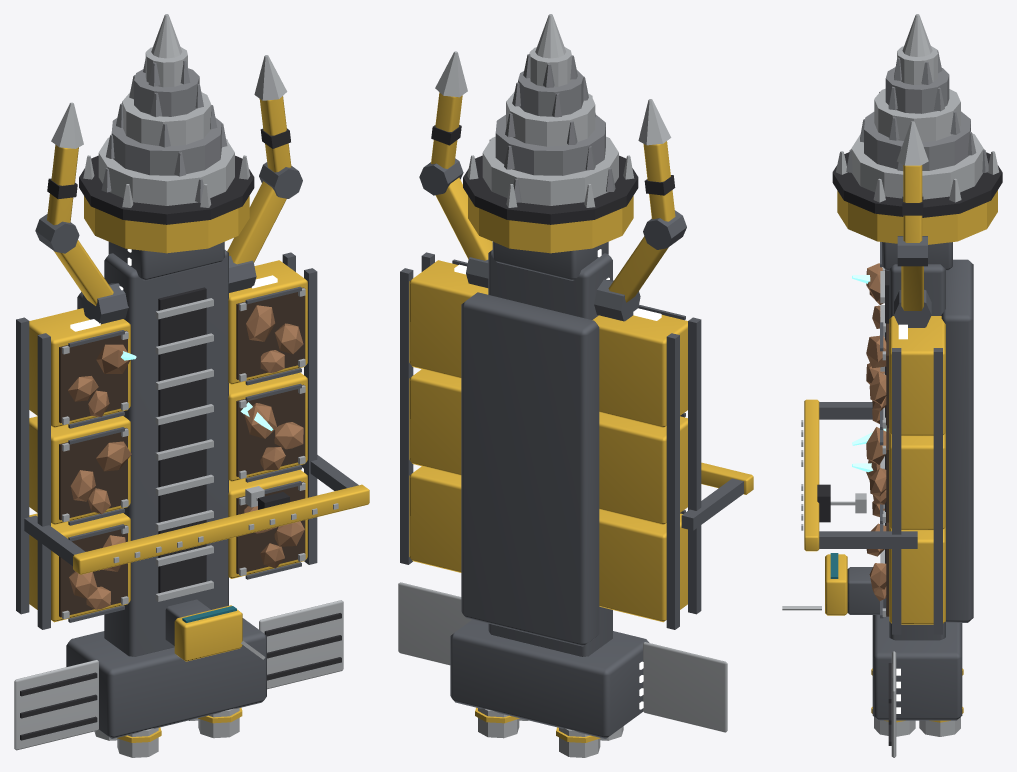
File: prospector.glb
3 views of the same model, side by side, from view 1: azimuth 30°, elevation 25°; view 2: azimuth 150°, elevation 25°; view 3: azimuth 270°, elevation 25° (orthographic). The views are drawn at different scales.
Visible parts, largest first — view 1: Keel spine, Engine block, Ore conveyor, Crane beam, Radiator wing, Drill housing, Radiator wing.001, Auger step, Hopper rail.001, Housing hazard band, Hopper rail, Ore hopper (+41 smaller); view 2: Ventral keel, Engine block, Ore hopper, Ore hopper.001, Ore hopper.002, Keel spine, Radiator wing, Ore hopper.003, Ore hopper.004, Ore hopper.005, Drill housing, Radiator wing.001 (+25 smaller); view 3: Ventral keel, Engine block, Ore hopper.003, Drill housing, Ore hopper.004, Auger step, Ore hopper.005, Housing hazard band, Hopper rail.003, Auger step.001, Hopper rail.002, Crane beam (+27 smaller).
Boxes of the visible parts, bbox=[...] form: Keel spine: bbox=[104, 250, 228, 656]; Engine block: bbox=[66, 618, 266, 738]; Ore conveyor: bbox=[158, 287, 206, 593]; Crane beam: bbox=[73, 484, 369, 574]; Radiator wing: bbox=[14, 660, 98, 750]; Drill housing: bbox=[84, 196, 249, 253]; Radiator wing.001: bbox=[259, 600, 343, 689]; Auger step: bbox=[98, 137, 234, 205]; Hopper rail.001: bbox=[16, 317, 29, 614]; Housing hazard band: bbox=[79, 155, 254, 224]; Hopper rail: bbox=[37, 333, 50, 629]; Ore hopper: bbox=[29, 308, 130, 427]; Ventral keel: bbox=[461, 292, 599, 646]; Engine block: bbox=[450, 619, 649, 738]; Ore hopper: bbox=[592, 315, 687, 427]; Ore hopper.001: bbox=[599, 412, 687, 524]; Ore hopper.002: bbox=[599, 509, 687, 622]; Keel spine: bbox=[488, 250, 612, 656]; Radiator wing: bbox=[643, 642, 727, 732]; Ore hopper.003: bbox=[409, 260, 488, 378]; Ore hopper.004: bbox=[409, 369, 461, 475]; Ore hopper.005: bbox=[409, 466, 461, 572]; Drill housing: bbox=[468, 196, 633, 253]; Radiator wing.001: bbox=[398, 582, 471, 665]; Ventral keel: bbox=[941, 259, 973, 622]; Engine block: bbox=[872, 615, 962, 720]; Ore hopper.003: bbox=[889, 316, 945, 436]; Drill housing: bbox=[837, 190, 997, 244]; Ore hopper.004: bbox=[889, 433, 945, 530]; Auger step: bbox=[851, 133, 983, 199]; Ore hopper.005: bbox=[889, 527, 945, 624]; Housing hazard band: bbox=[832, 152, 1002, 217]; Hopper rail.003: bbox=[933, 348, 942, 634]; Auger step.001: bbox=[864, 111, 970, 170]; Hopper rail.002: bbox=[892, 348, 901, 634]; Crane beam: bbox=[804, 399, 819, 551].
Size of the model in its own units: 3.9 by 8.13 by 2.33.
